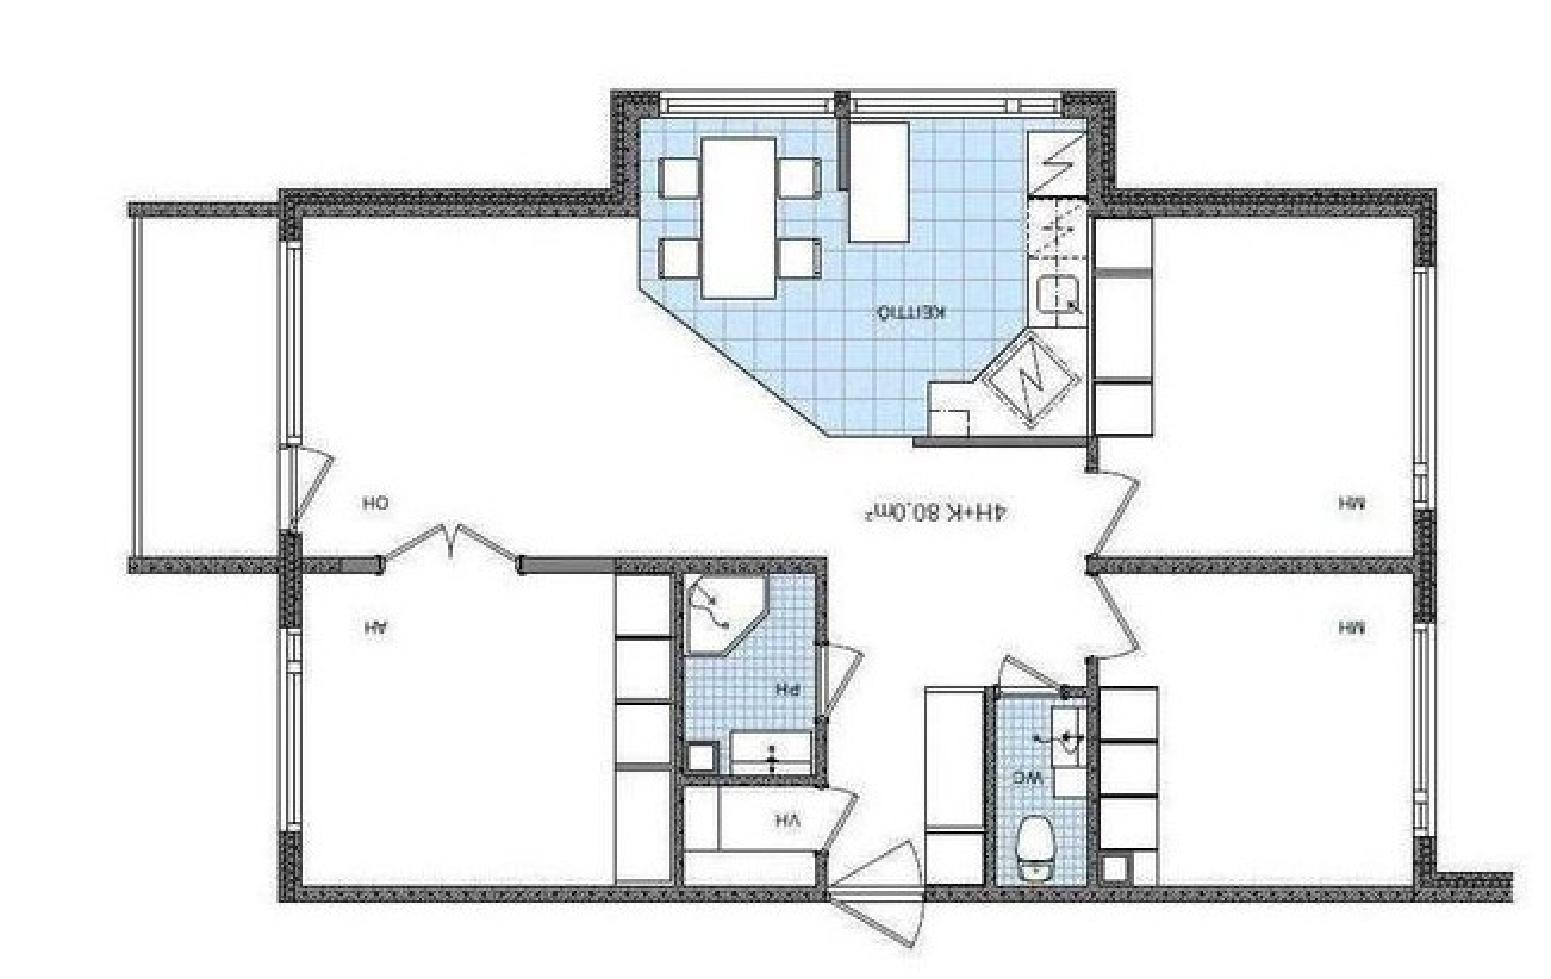door: (826, 840, 934, 945), (377, 520, 515, 581), (1081, 469, 1147, 554), (275, 443, 341, 528), (1087, 575, 1145, 667), (816, 638, 861, 718), (819, 780, 863, 853), (992, 653, 1061, 696)
window: (1415, 265, 1439, 517), (1412, 621, 1440, 836), (854, 89, 1058, 118), (277, 239, 305, 446), (662, 88, 838, 116), (277, 627, 300, 831)
zone: (300, 212, 1415, 556), (685, 568, 1419, 887), (638, 116, 1095, 441), (303, 571, 671, 883), (139, 213, 274, 556), (682, 570, 819, 771)
